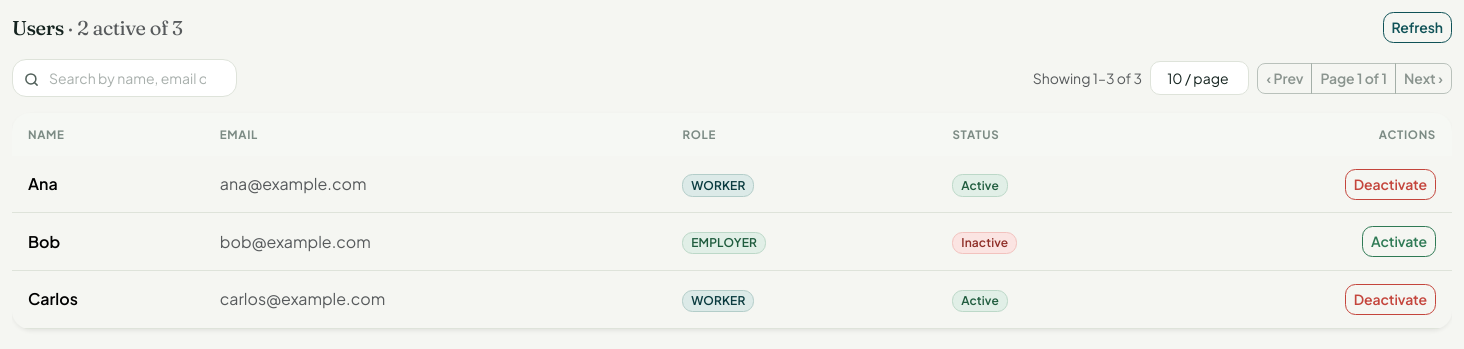
it: UserManagement › shows a no-matches message when the search finds nothing
The image size is (1464, 349).
Expected: the text "Ana" is shown, x1=12 y1=156 x2=204 y2=213
Type "zzz" into the search field at (124, 78), box x1=12 y1=59 x2=237 y2=97
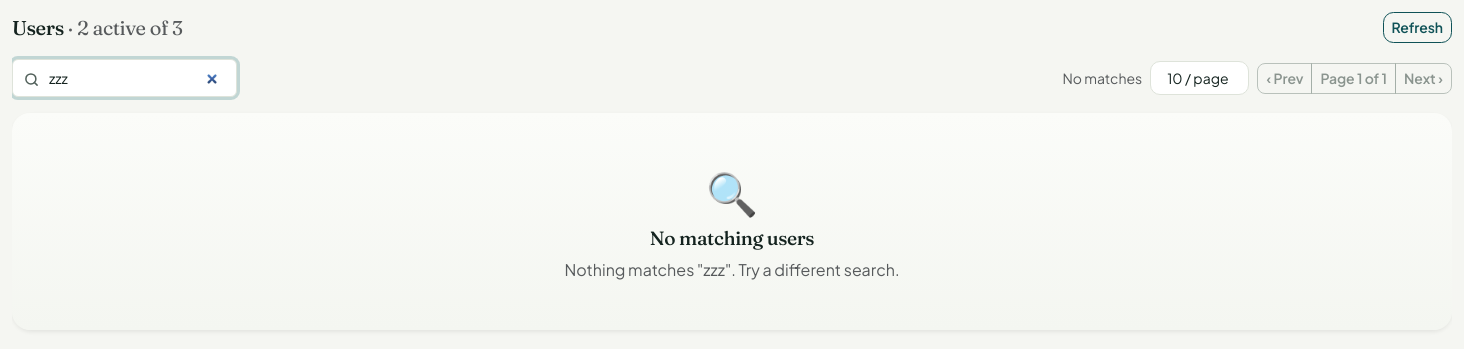
Result: the heading "No matching users" is shown at x1=650 y1=226 x2=814 y2=250
Result: the text "No matches" is shown at x1=1062 y1=68 x2=1142 y2=88
